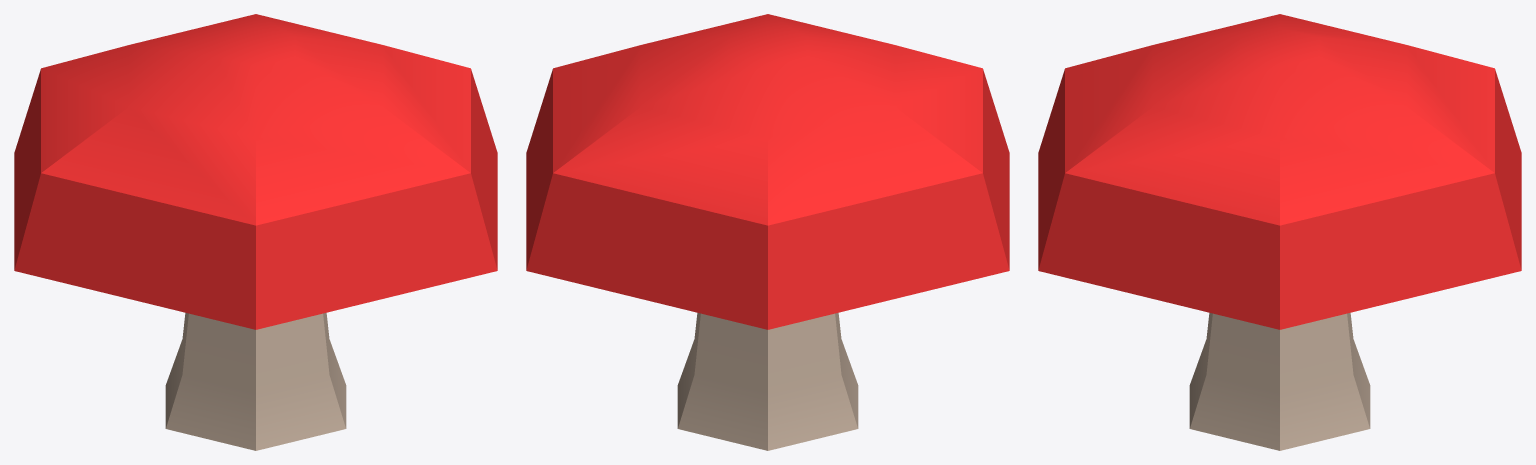
Rendered from Mushroom_Red_02.fbx.
The picture shows the model from 3 angles, left to right: view 1: azimuth 30°, elevation 25°; view 2: azimuth 150°, elevation 25°; view 3: azimuth 270°, elevation 25°; orthographic projection.
Parts seen in each view (by area): view 1: Model; view 2: Model; view 3: Model.
Part boxes in pixels (<box>): Model: <box>14,14,497,450</box>; Model: <box>526,14,1009,450</box>; Model: <box>1038,14,1521,450</box>.
Size of the model in its own units: 177 by 126 by 153.
